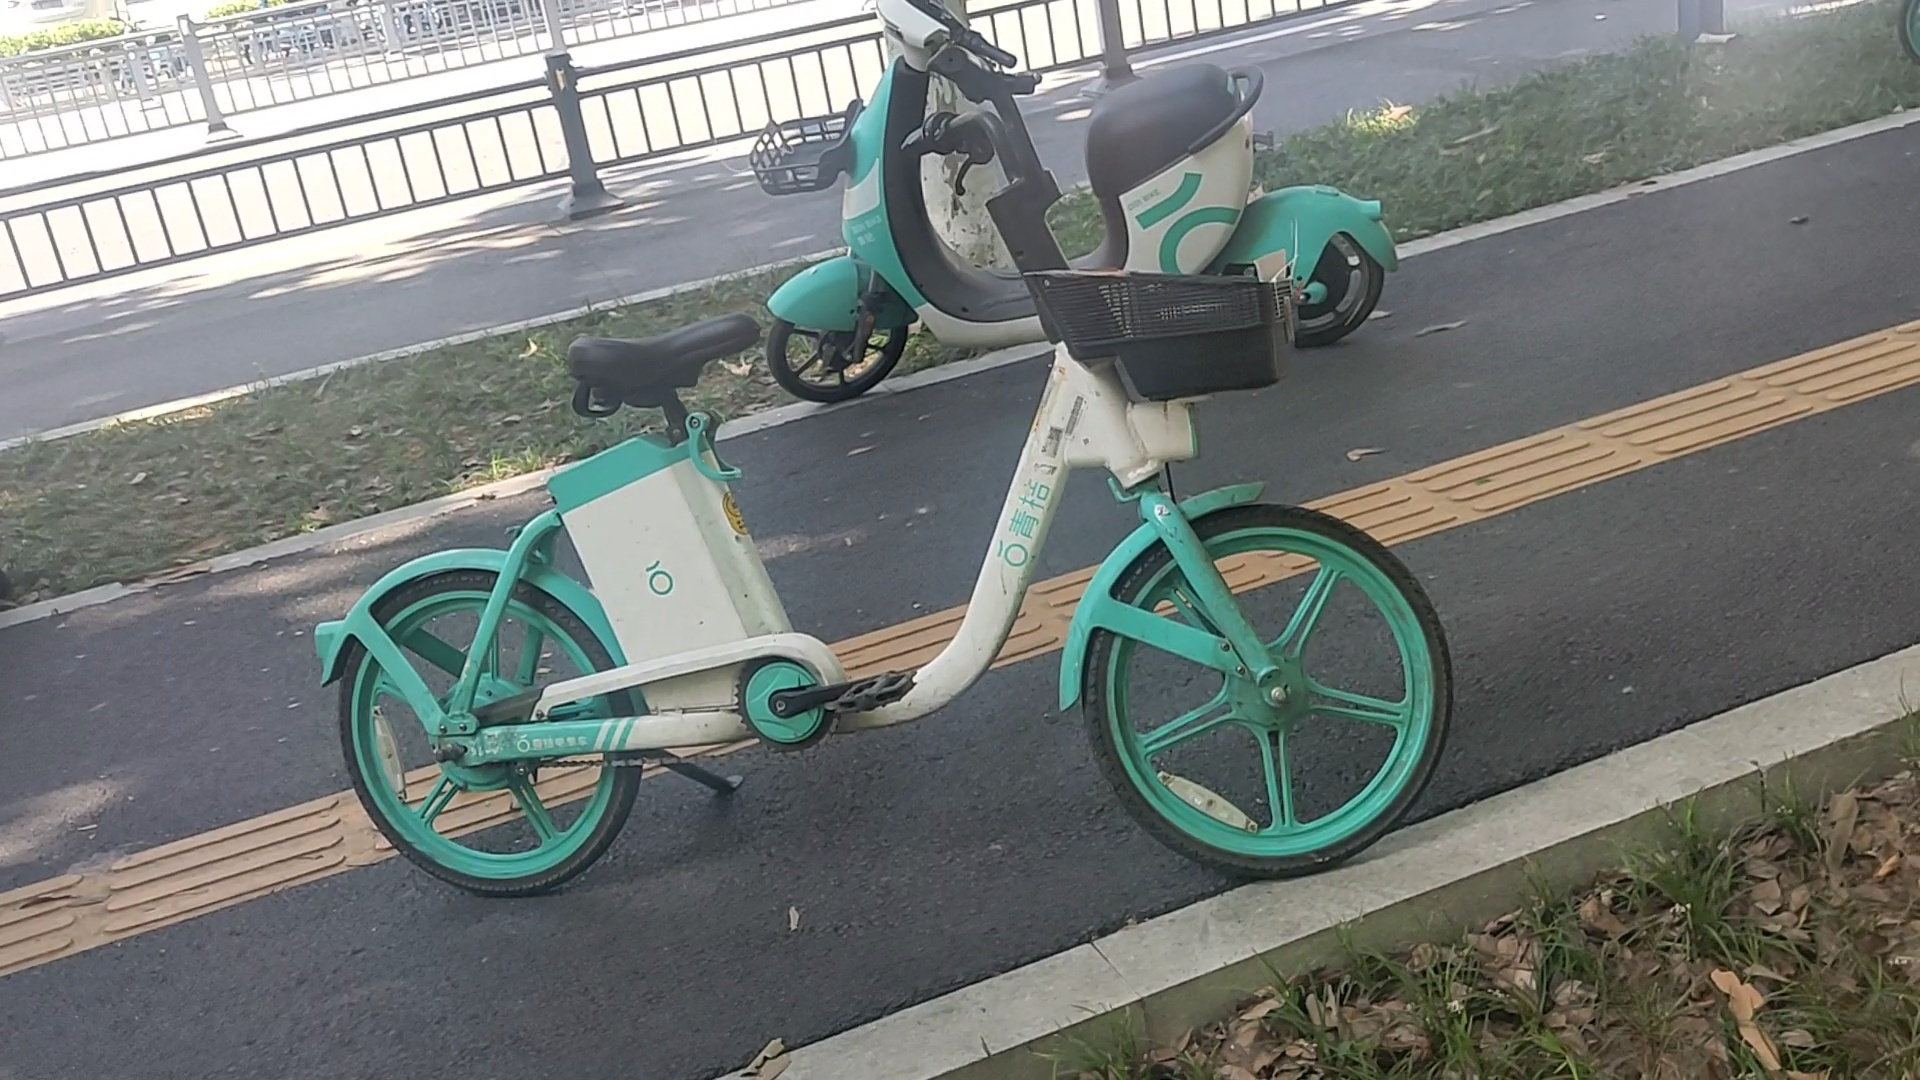non-vehicle: (251, 34, 1507, 923), (756, 5, 1402, 409)
